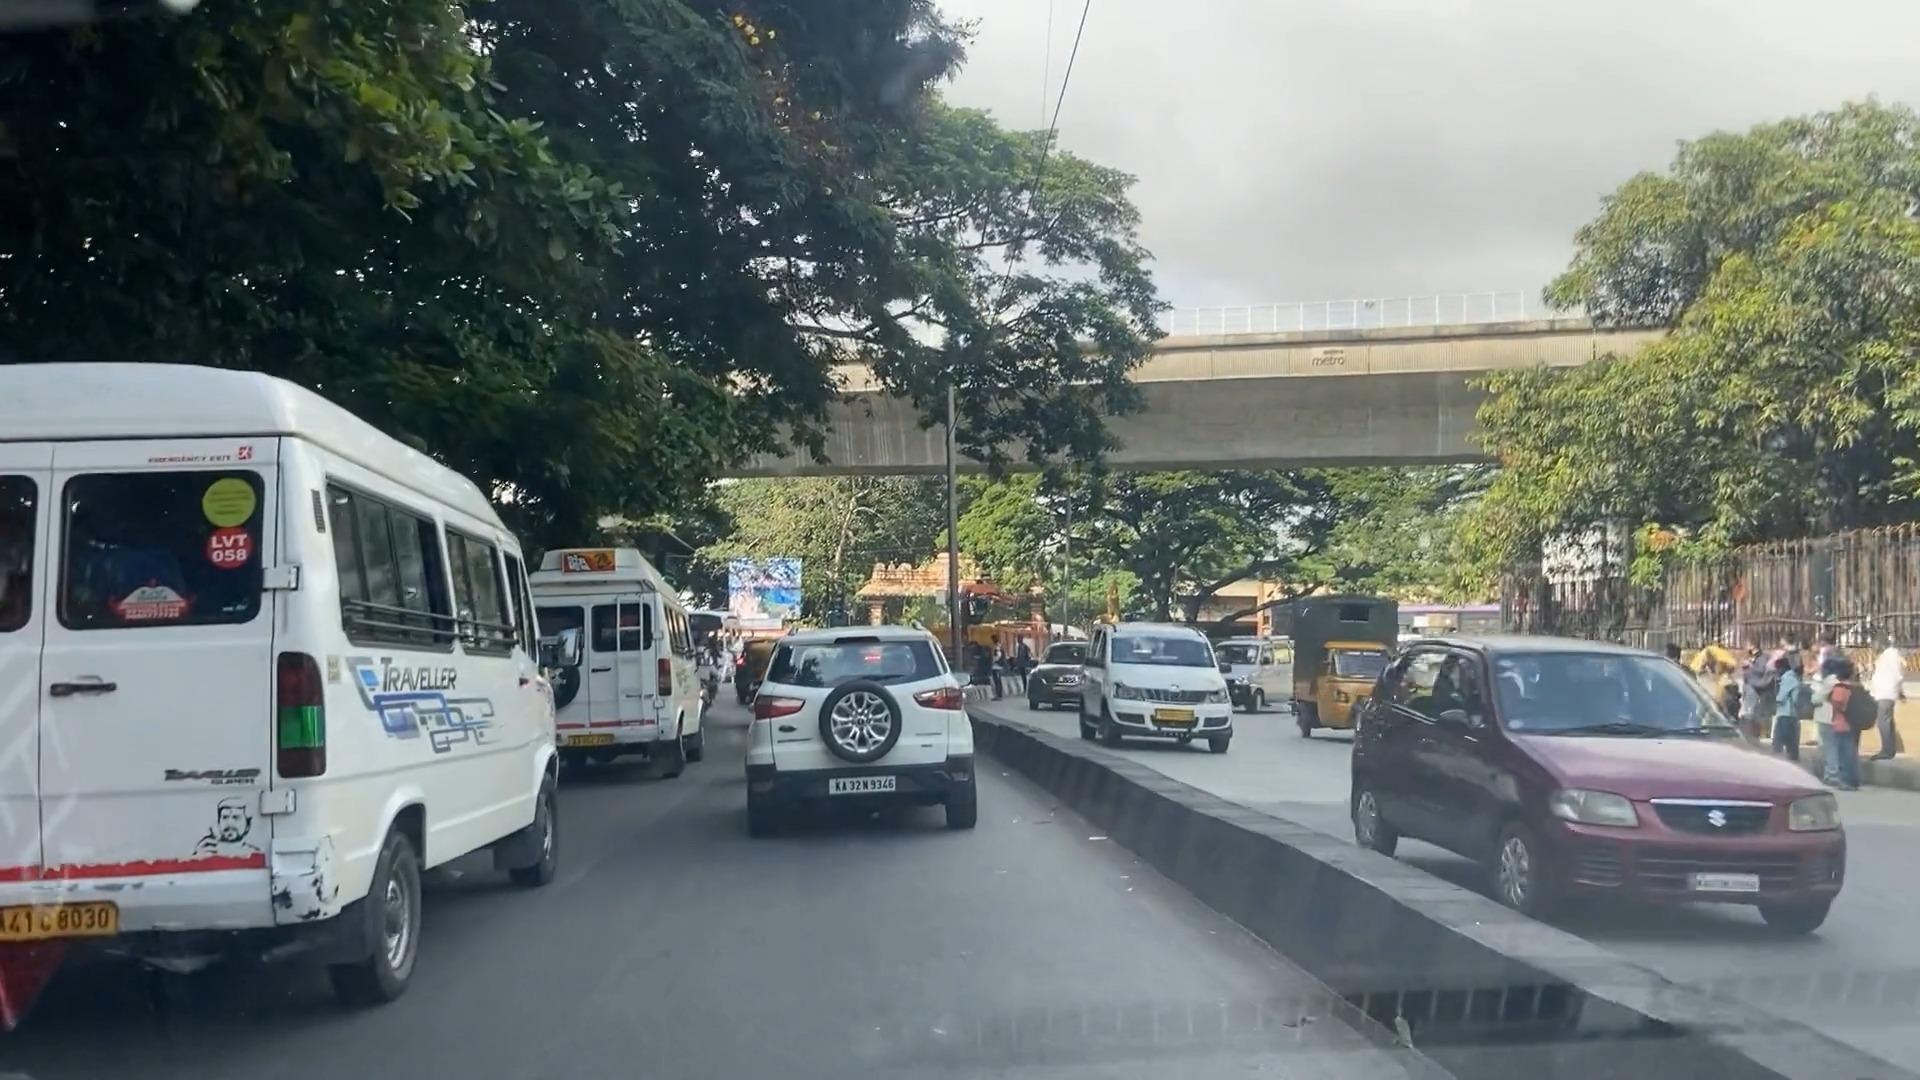HMV: (0, 351, 559, 968), (546, 538, 705, 773)
LMV: (756, 622, 984, 828)
